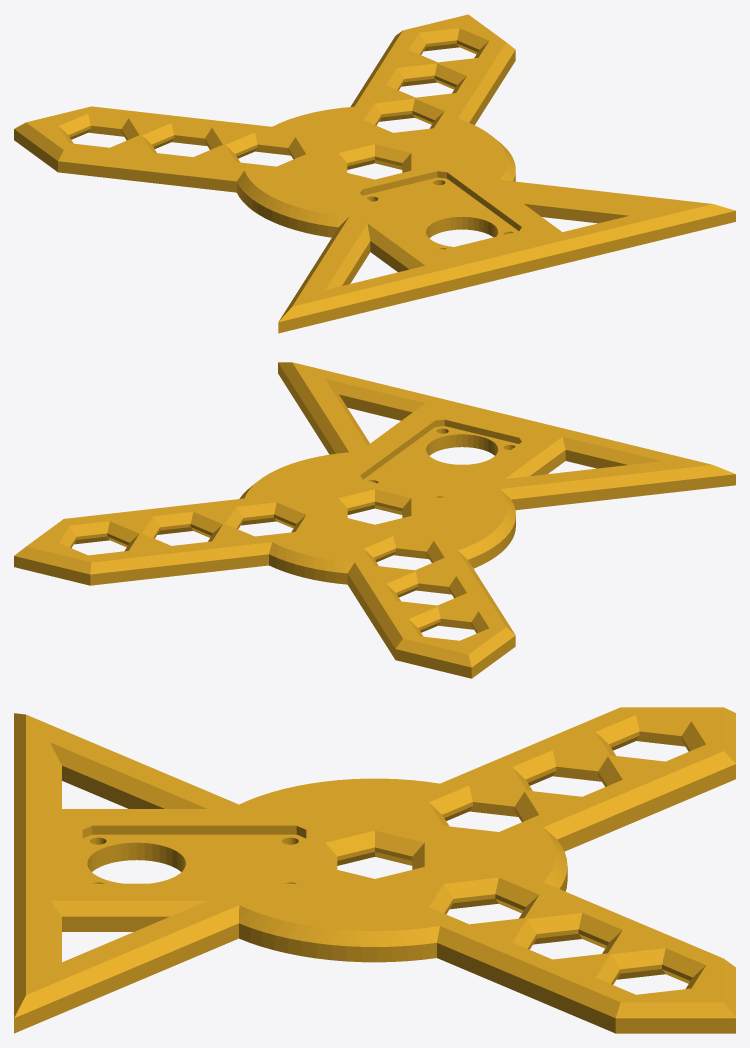
The picture shows the model from 3 angles, top to bottom: view 1: azimuth 30°, elevation 25°; view 2: azimuth 150°, elevation 25°; view 3: azimuth 270°, elevation 25°; orthographic projection. The views are drawn at different scales.
Parts seen in each view (by area): view 1: node; view 2: node; view 3: node.
Part boxes in pixels (<box>): node: <box>14,14,735,333</box>; node: <box>14,362,735,678</box>; node: <box>14,707,735,1033</box>.
Size of the model in its own units: 150 by 6 by 150.
